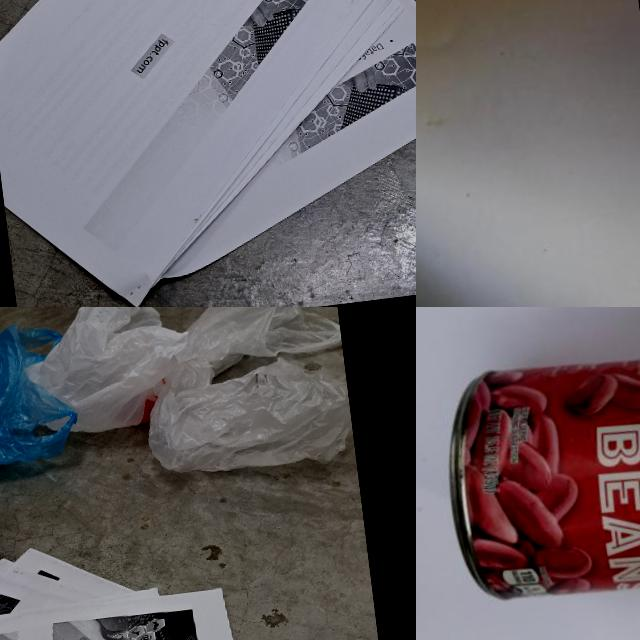lata: (435, 324, 640, 619)
papel: (0, 0, 416, 307), (416, 0, 640, 307), (0, 519, 291, 640)
sacola plástica: (142, 350, 355, 480), (18, 307, 213, 439), (163, 307, 344, 386), (0, 319, 84, 476)
